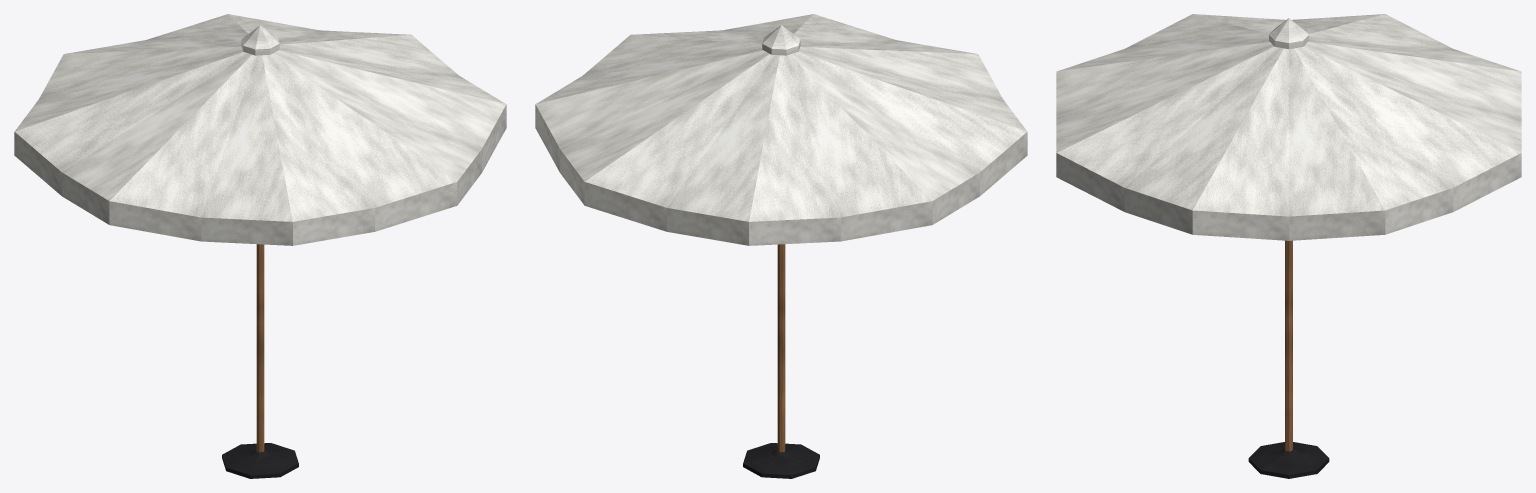
File: SM_Molo_OmbrelloneLegno.fbx
3 renders of one model, left to right at view 1: azimuth 30°, elevation 25°; view 2: azimuth 150°, elevation 25°; view 3: azimuth 270°, elevation 25°, orthographic.
Visible parts, largest first — view 1: SM_Molo_OmbrelloneLegno; view 2: SM_Molo_OmbrelloneLegno; view 3: SM_Molo_OmbrelloneLegno.
Boxes of the visible parts, <box> form: SM_Molo_OmbrelloneLegno: <box>14,14,506,478</box>; SM_Molo_OmbrelloneLegno: <box>535,14,1027,478</box>; SM_Molo_OmbrelloneLegno: <box>1056,14,1521,478</box>.
Size of what is drawn, in the model's own units: 277 by 277 by 292.
Materials: 2 (2 with a texture image).
